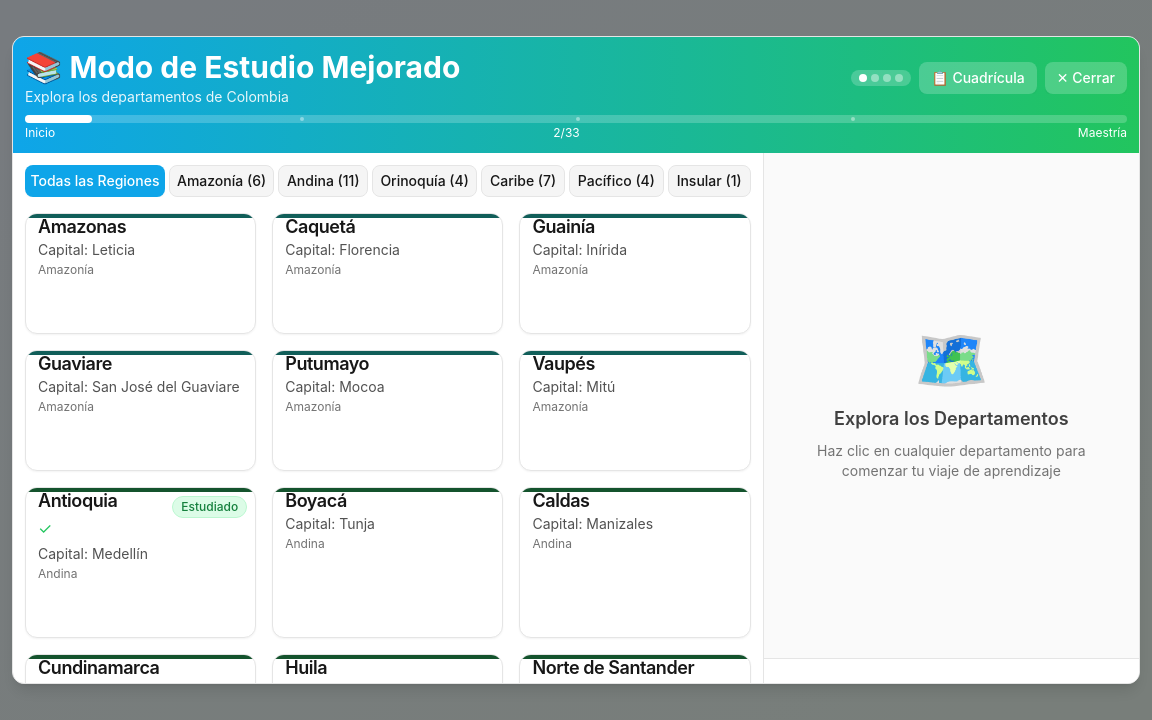
Test: StudyMode Component › Region Filtering › should show only selected region departments when filtered
Click the button "Insular (1)": (709, 180) [668,164,751,196]
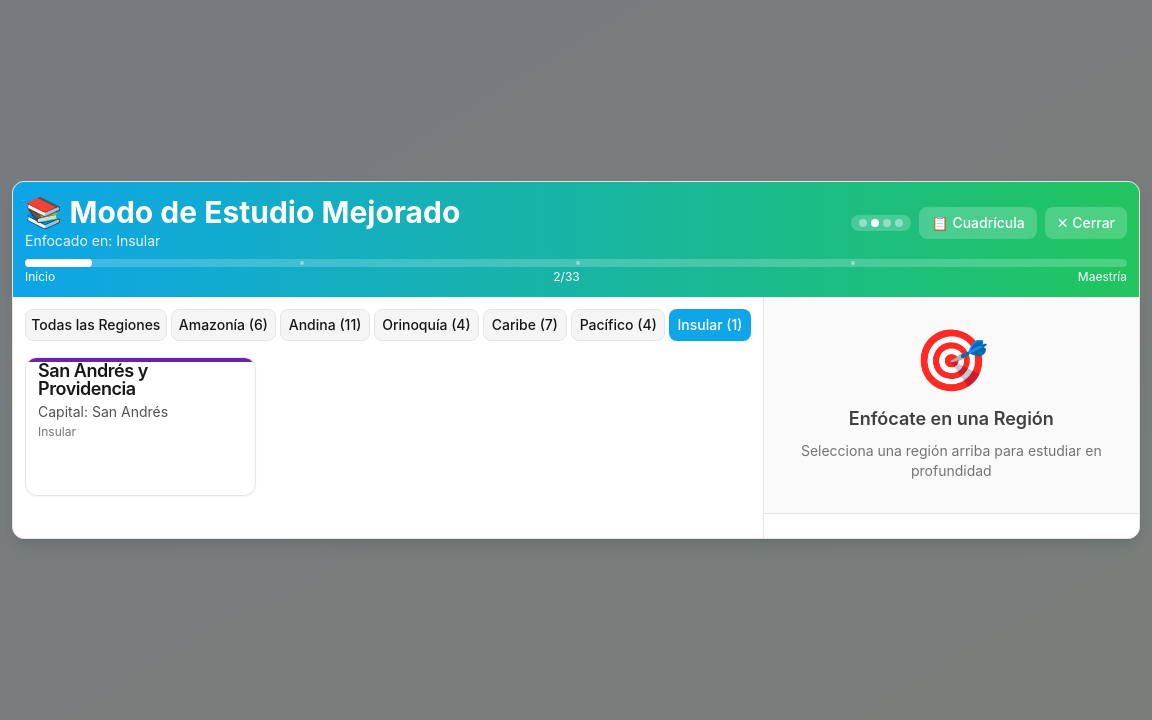
Result: the heading "San Andrés y Providencia" is shown at [38,360,148,399]
Result: no headings "Antioquia" are shown
